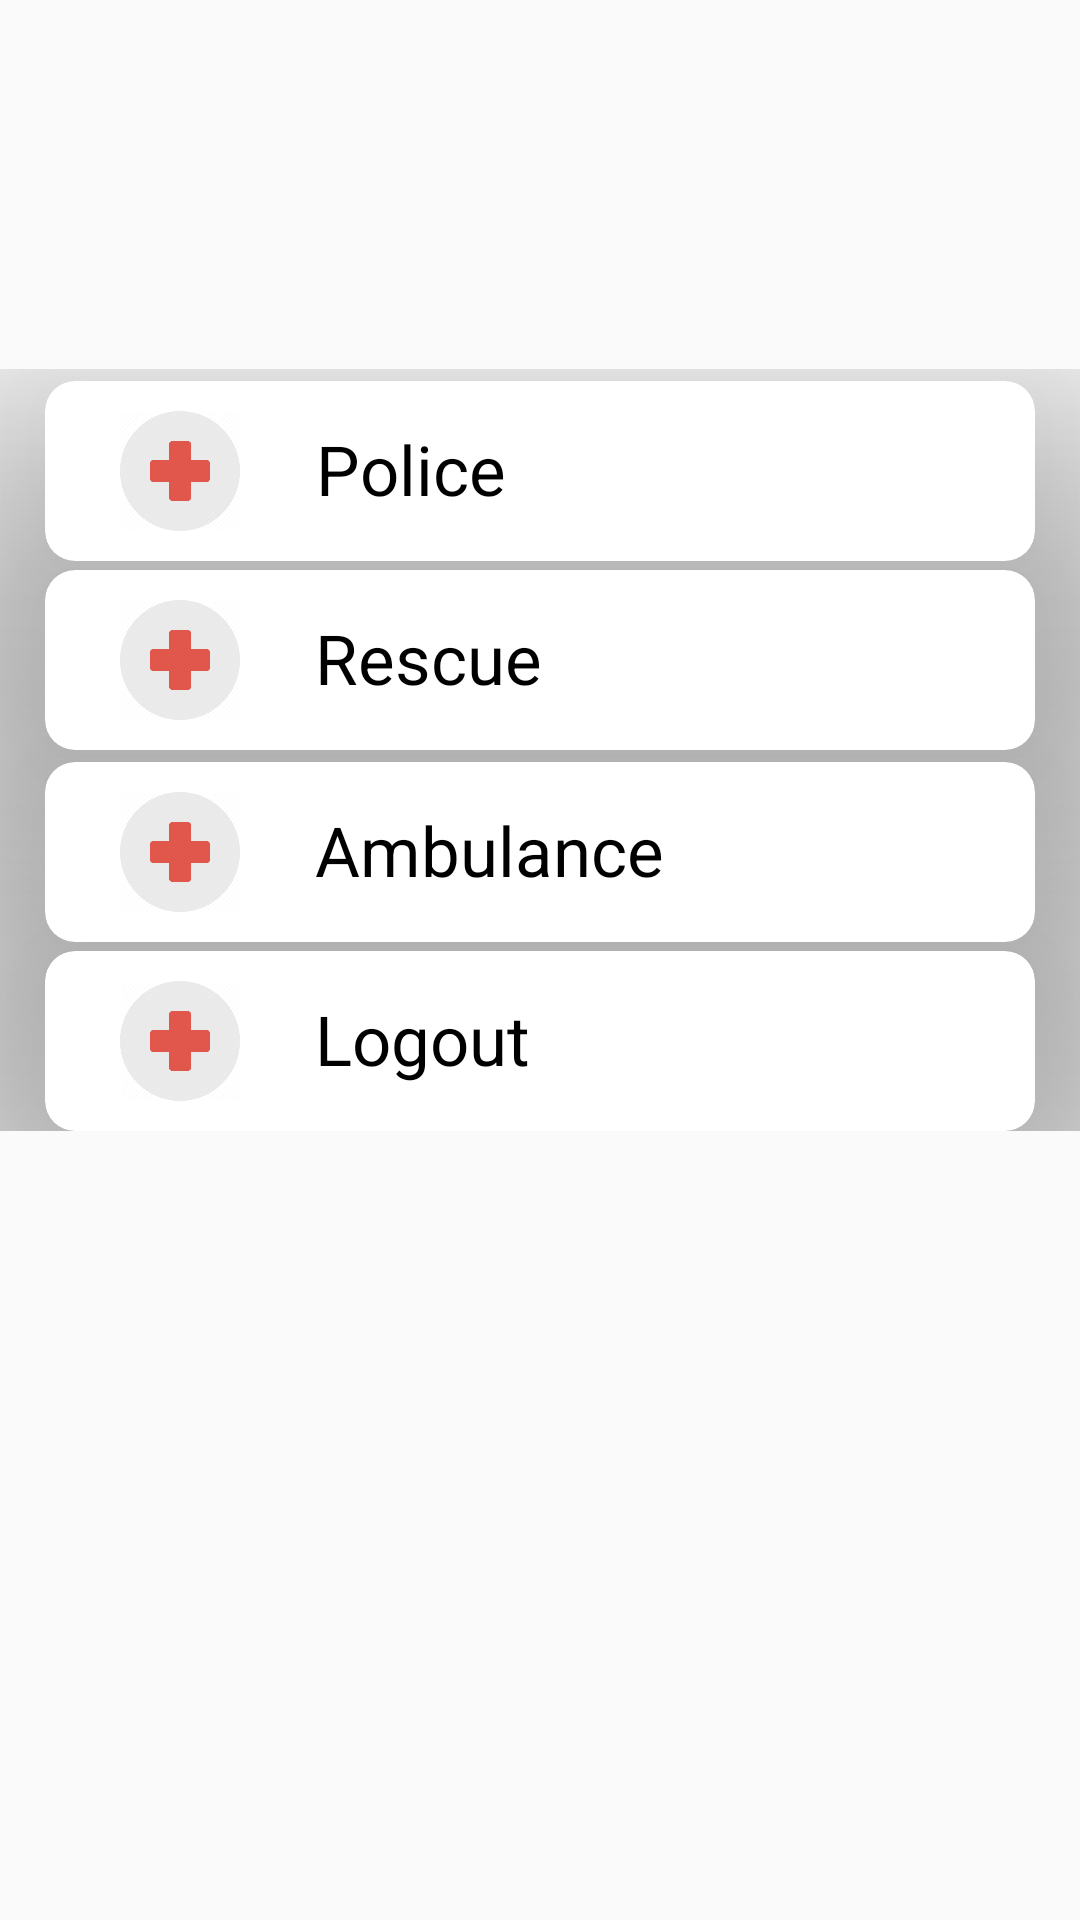

Icon click points for this 1080*1920 phone screenshot, format (x=x, y=y):
help: (x=180, y=471), (x=180, y=660), (x=180, y=852), (x=180, y=1041)
